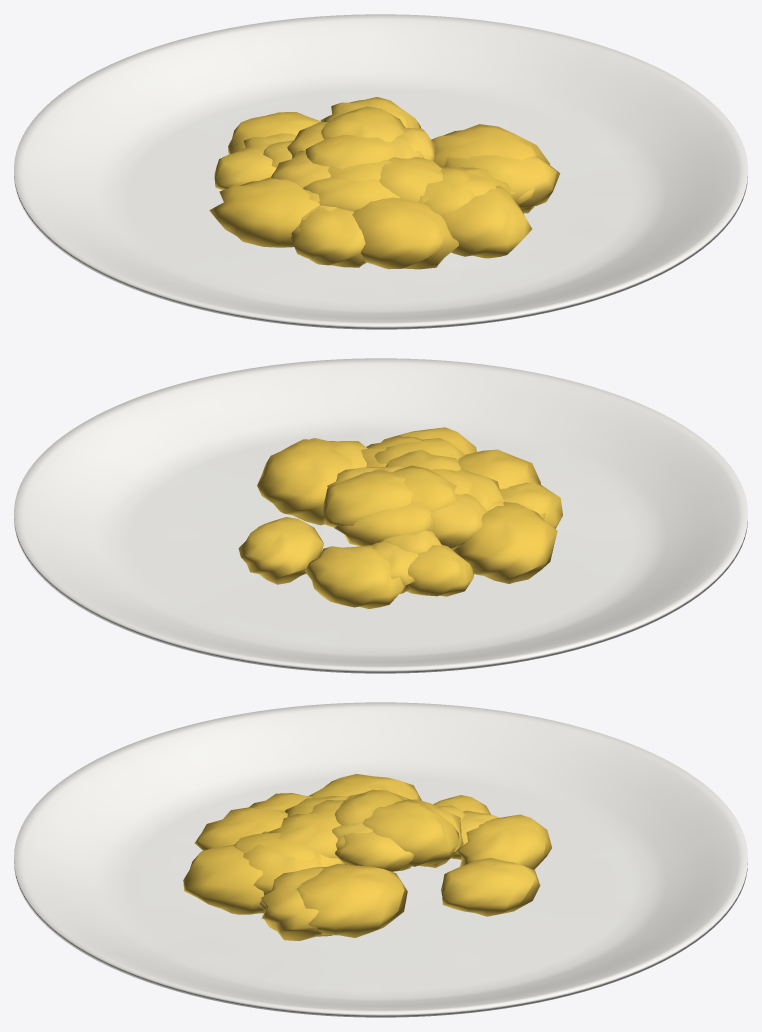
The model's file is scrambled-eggs.glb.
The picture shows the model from 3 angles, top to bottom: view 1: azimuth 30°, elevation 25°; view 2: azimuth 150°, elevation 25°; view 3: azimuth 270°, elevation 25°; orthographic projection.
Parts seen in each view (by area): view 1: ceramic, glaze; view 2: ceramic, glaze; view 3: ceramic, glaze.
Boxes of the visible parts, bbox=[...] form: ceramic: bbox=[14, 14, 747, 329]; glaze: bbox=[209, 97, 560, 269]; ceramic: bbox=[14, 358, 747, 673]; glaze: bbox=[238, 427, 562, 608]; ceramic: bbox=[14, 702, 747, 1017]; glaze: bbox=[183, 774, 551, 940].
Size of the model in its own units: 0.26 by 0.0332 by 0.26.
2 materials, 2 textured.
